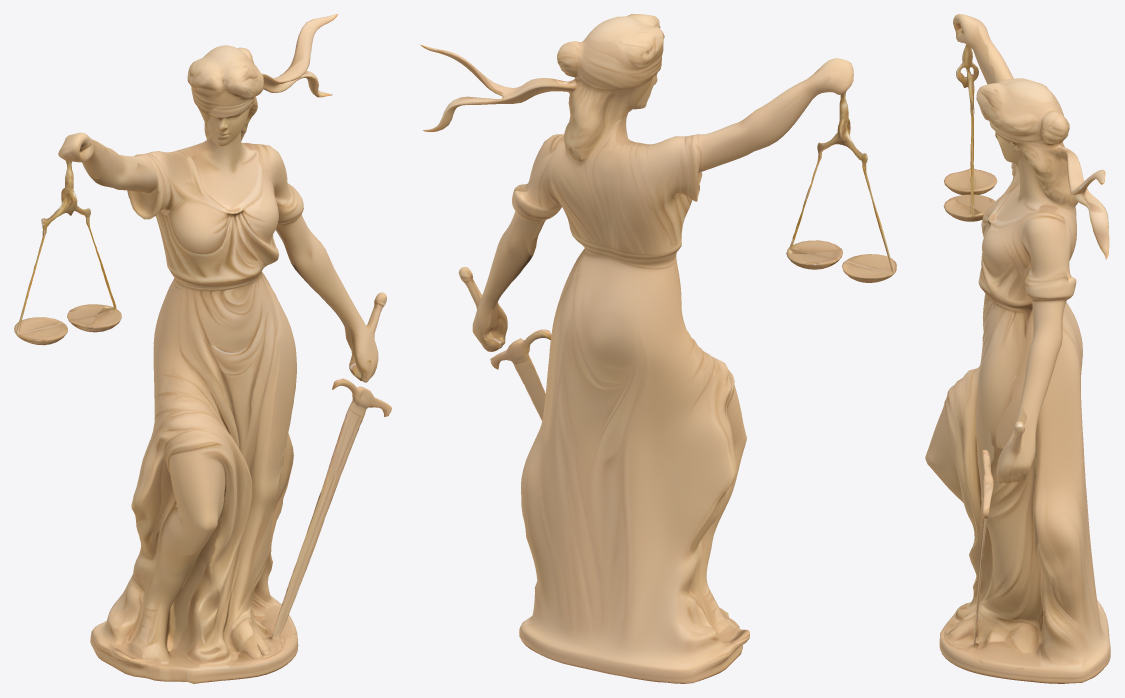
File: justice law goddess.glb
The picture shows the model from 3 angles, left to right: view 1: azimuth 30°, elevation 25°; view 2: azimuth 150°, elevation 25°; view 3: azimuth 270°, elevation 25°; orthographic projection. The views are drawn at different scales.
Visible parts, largest first — view 1: model; view 2: model; view 3: model.
Boxes of the visible parts, bbox=[...] form: model: bbox=[14, 14, 391, 683]; model: bbox=[420, 14, 896, 683]; model: bbox=[925, 14, 1110, 683].
Size of the model in its own units: 1.33 by 1.9 by 0.5602.
Materials: 1 (1 with a texture image).
